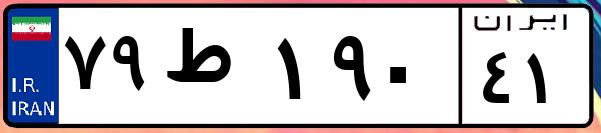0: (385, 28, 445, 110)
1: (270, 28, 330, 110), (525, 38, 570, 115)
4: (475, 38, 525, 113)
7: (57, 26, 110, 100)
9: (330, 28, 385, 110), (110, 28, 158, 98)
ط: (158, 20, 270, 120)
